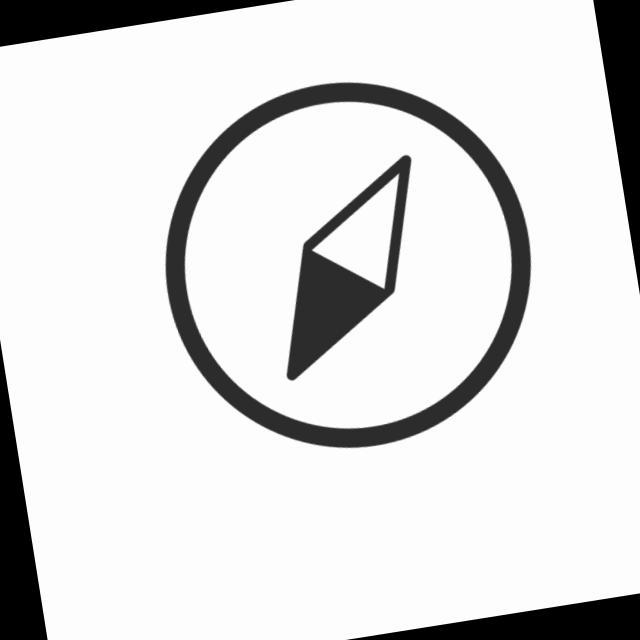compass: (131, 52, 561, 482)
